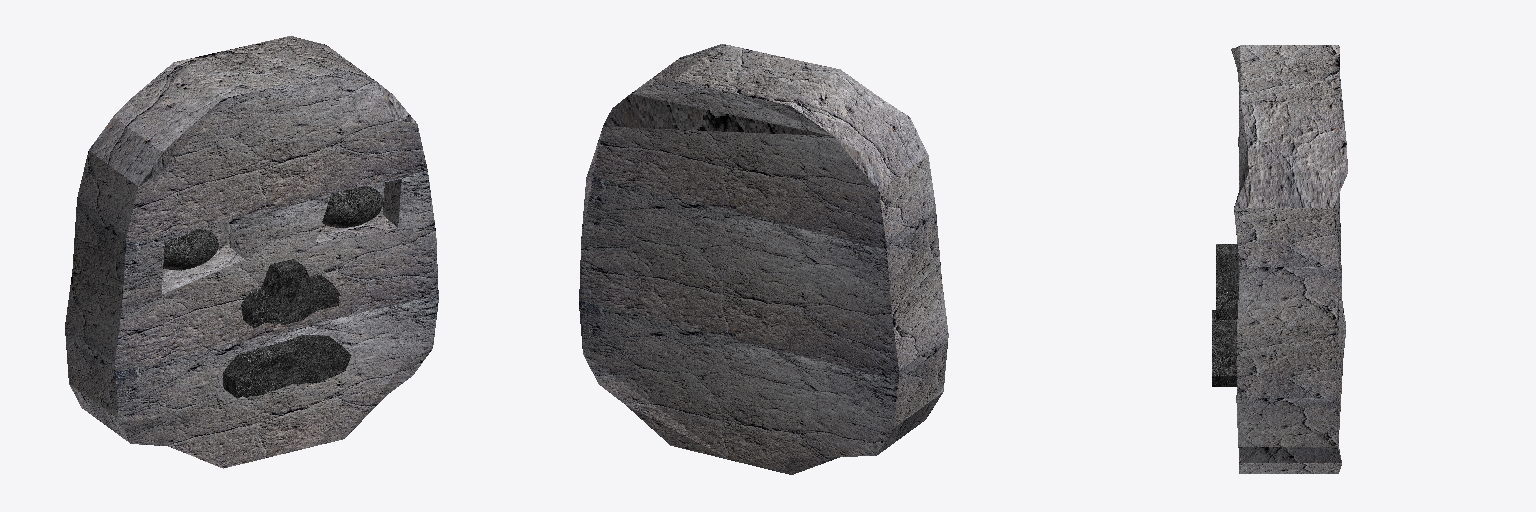
3 views of the same model, side by side, from view 1: azimuth 30°, elevation 25°; view 2: azimuth 150°, elevation 25°; view 3: azimuth 270°, elevation 25° (orthographic).
Visible parts, largest first — view 1: Box001, Box002, Box003, Sphere002, Sphere001; view 2: Box001; view 3: Box001, Box002, Box003.
Boxes of the visible parts, x1,y1,x2,y2 form: Box001: [65, 36, 438, 468]; Box002: [223, 335, 351, 397]; Box003: [241, 259, 339, 327]; Sphere002: [322, 186, 383, 227]; Sphere001: [163, 228, 218, 269]; Box001: [579, 44, 948, 474]; Box001: [1231, 45, 1347, 473]; Box002: [1212, 310, 1236, 386]; Box003: [1216, 244, 1238, 319].
Bounding box in the file's own units: 17.08 × 18.73 × 6.25.
Materials: 2 (2 with a texture image).